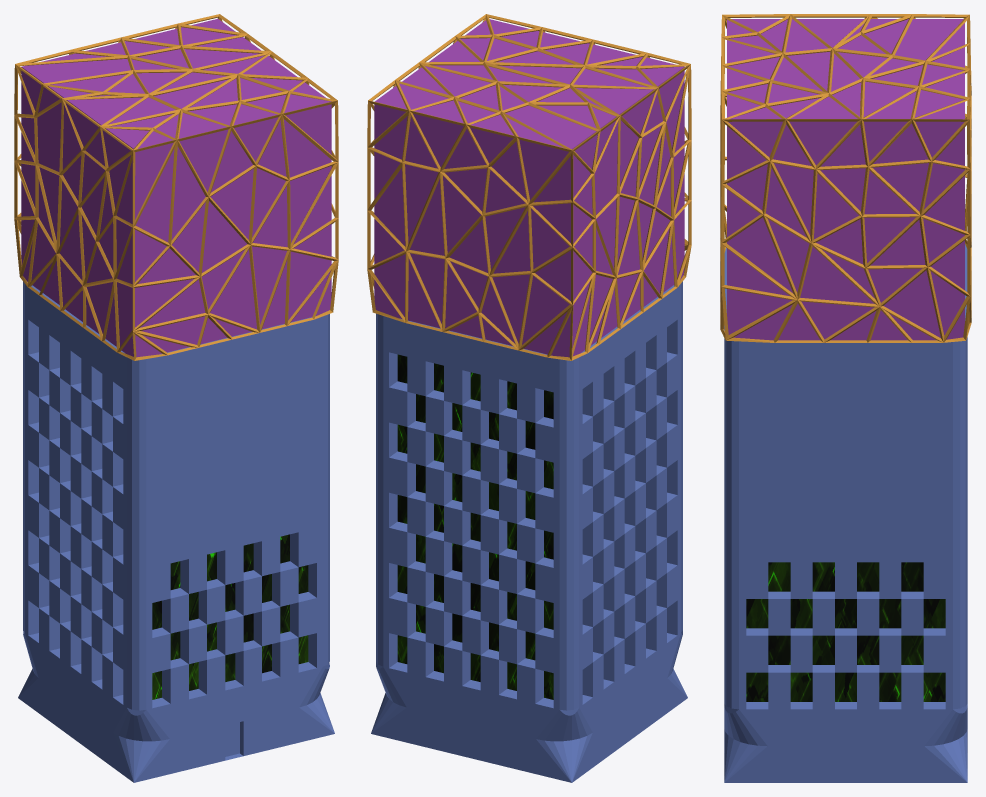
The model's file is Building1Lighthouse.fbx.
3 views of the same model, side by side, from view 1: azimuth 30°, elevation 25°; view 2: azimuth 150°, elevation 25°; view 3: azimuth 270°, elevation 25° (orthographic). The views are drawn at different scales.
Visible parts, largest first — view 1: Edificio, Edificio.002, Edificio.001, Cube; view 2: Edificio, Edificio.002, Edificio.001, Cube; view 3: Edificio, Edificio.002, Edificio.001, Cube.
Boxes of the visible parts, x1,y1,x2,y2 form: Edificio: (18,281,334,782); Edificio.002: (21,19,331,357); Edificio.001: (14,14,338,360); Cube: (152,534,308,699); Edificio: (371,281,687,782); Edificio.002: (374,19,684,357); Edificio.001: (367,14,691,360); Cube: (397,354,553,699); Edificio: (724,244,967,782); Edificio.002: (727,19,964,340); Edificio.001: (720,14,971,342); Cube: (746,562,945,701).
Size of the model in its own units: 826 by 2413 by 826.
Materials: 4 (4 with a texture image).
